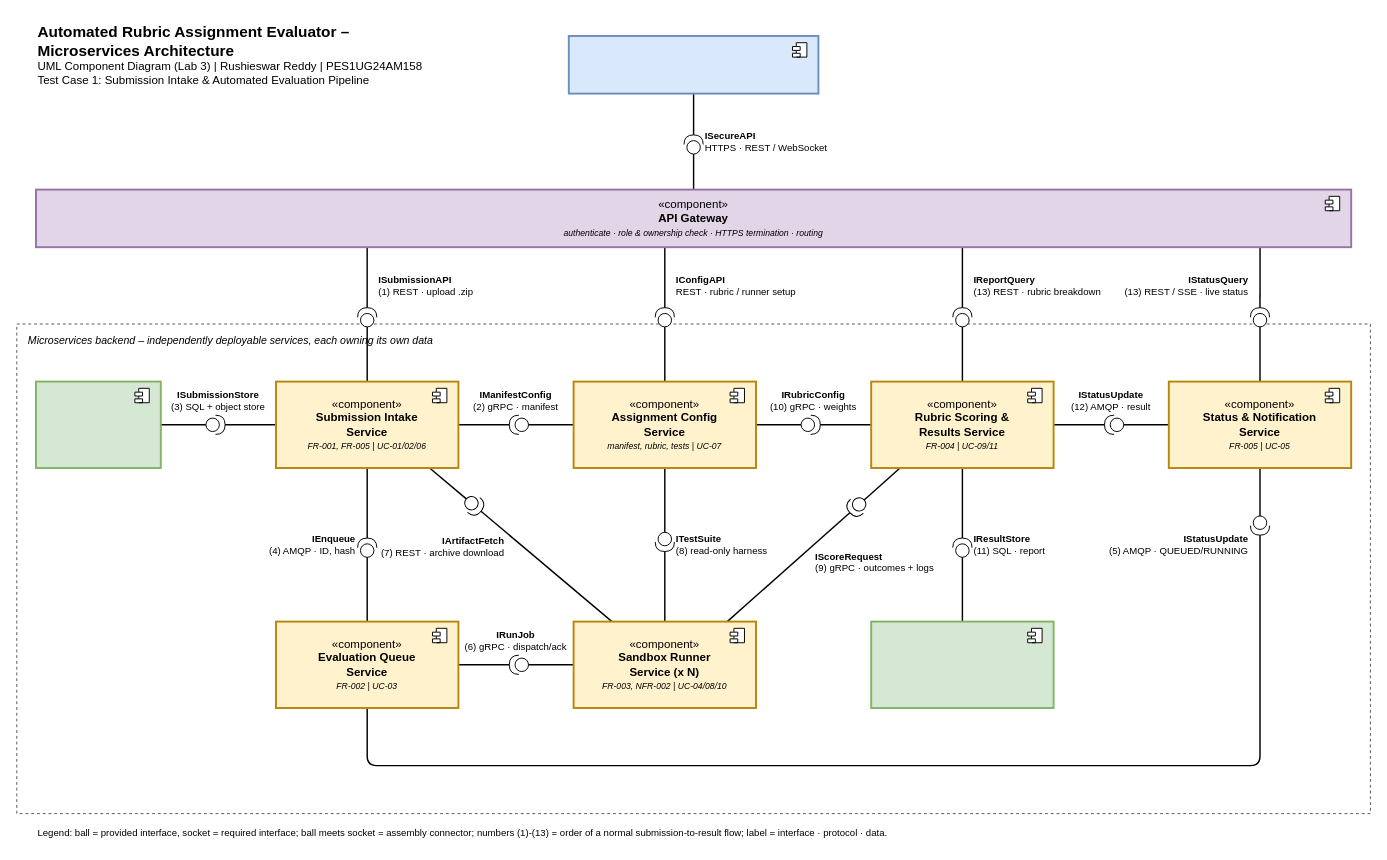
Some shapes in this 1387 by 860 pixel diagram are drawn without their labels. The box of each missing label's shape, as (x1, y1, x2, y2) in pixels:
«component» Web Portal Student & Faculty UI: (567, 35, 819, 94)
«database» Results Store reports, breakdowns, audit: (870, 620, 1054, 708)
«database» Submission Store archives, hashes, versions: (35, 380, 161, 468)
